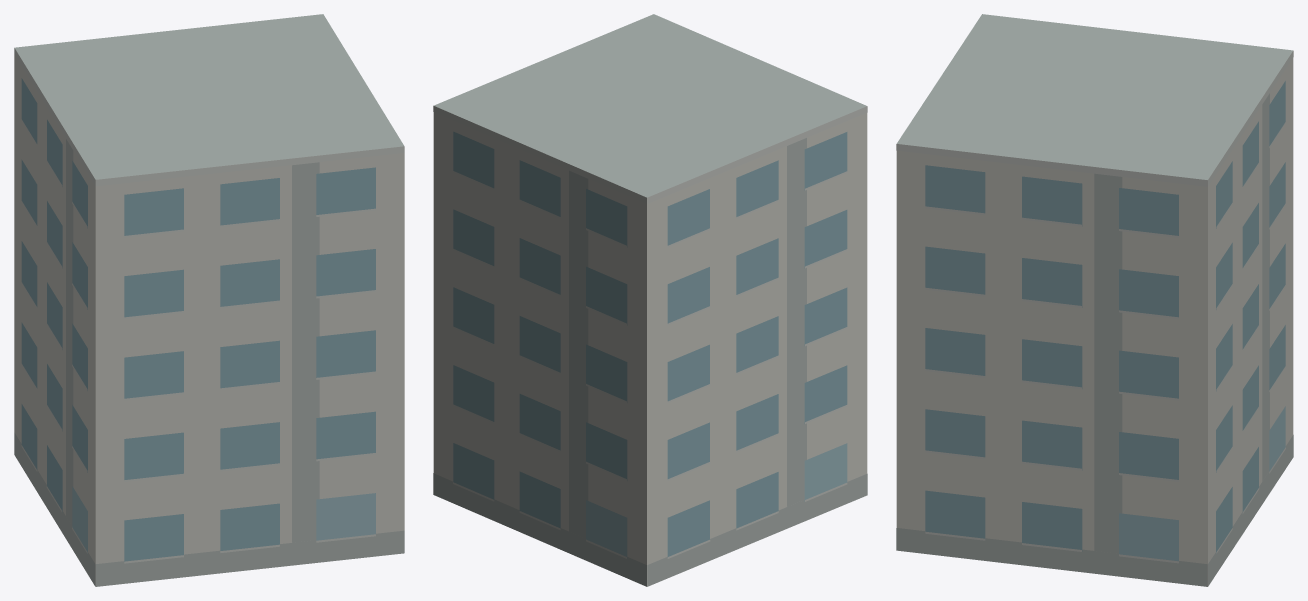
Rendered from survey-upis-32614969.glb.
3 renders of one model, left to right at view 1: azimuth 30°, elevation 25°; view 2: azimuth 150°, elevation 25°; view 3: azimuth 270°, elevation 25°, orthographic. The views are drawn at different scales.
Parts seen in each view (by area): view 1: survey-upis-32614969.tmp; view 2: survey-upis-32614969.tmp; view 3: survey-upis-32614969.tmp.
Part boxes in pixels (bbox=[...]): survey-upis-32614969.tmp: bbox=[14, 14, 404, 586]; survey-upis-32614969.tmp: bbox=[433, 14, 867, 586]; survey-upis-32614969.tmp: bbox=[896, 14, 1293, 586].
Bounding box in the file's own units: 12.84 × 14.65 × 12.97.
